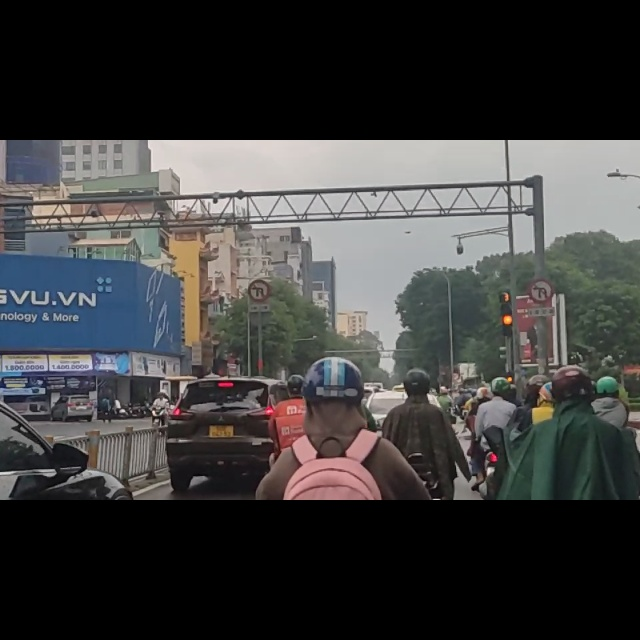bien_cam: (248, 247, 271, 287), (531, 249, 553, 288)
